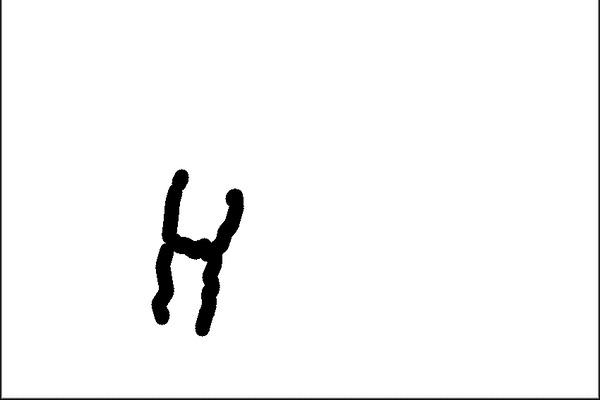H: (142, 161, 250, 337)
